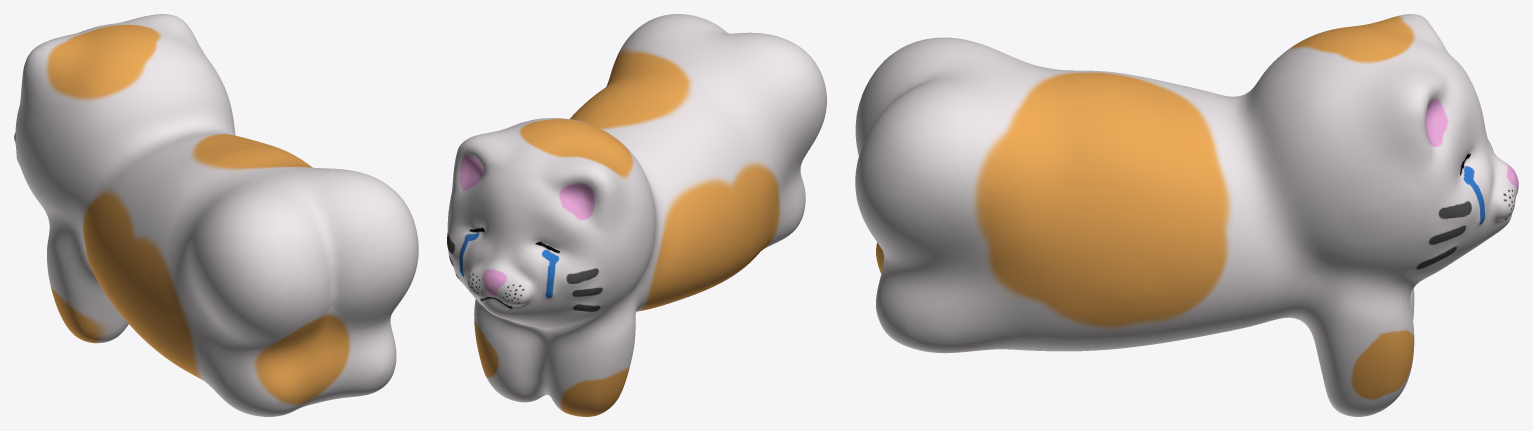
Rendered from catass.fbx.
The picture shows the model from 3 angles, left to right: view 1: azimuth 30°, elevation 25°; view 2: azimuth 150°, elevation 25°; view 3: azimuth 270°, elevation 25°; orthographic projection. The views are drawn at different scales.
Parts seen in each view (by area): view 1: sculpt; view 2: sculpt; view 3: sculpt.
Part boxes in pixels (x1=…): sculpt: x1=14, y1=14, x2=418, y2=416; sculpt: x1=447, y1=14, x2=826, y2=416; sculpt: x1=855, y1=14, x2=1518, y2=416.
Size of the model in its own units: 552 by 768 by 1308.
1 material, 1 textured.
